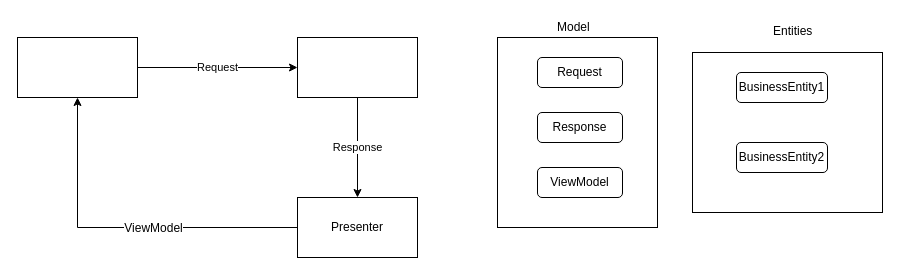
Some shapes in this 900 by 275 pixel diagram are drawn without their labels. Here are the shapes that lost their labels. From the top down, the box of each, then its label:
(16, 36, 138, 98): ViewController
(296, 36, 418, 98): Interactor
